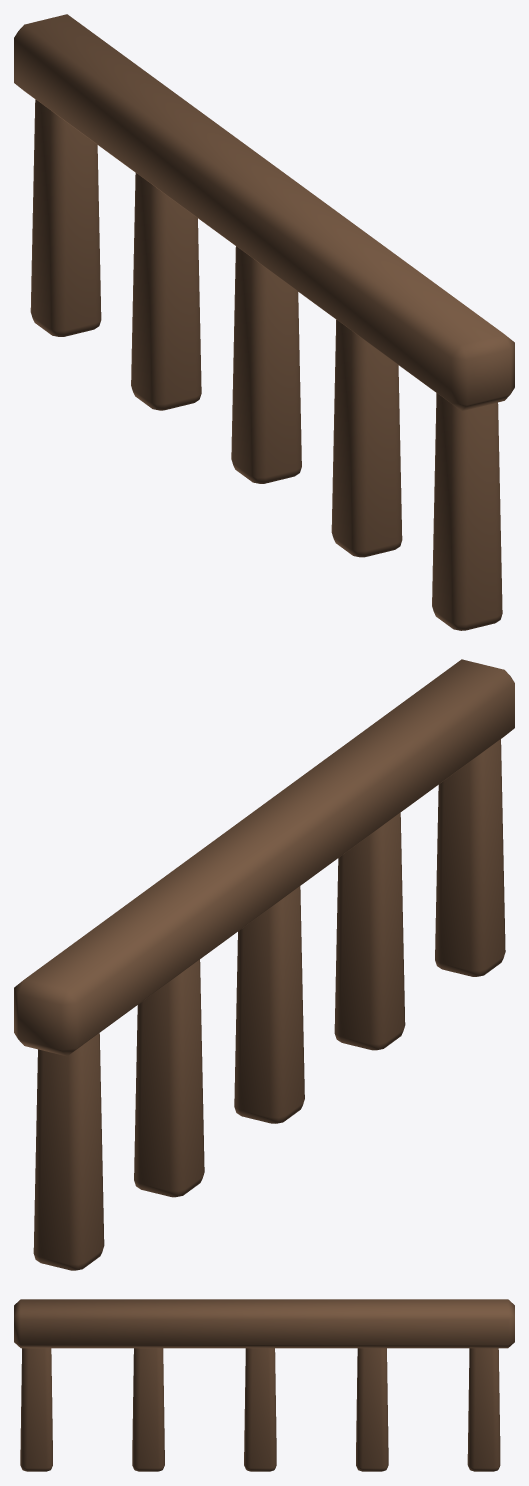
Rendered from MOD_Railing_Medium.fbx.
3 views of the same model, one above another, from view 1: azimuth 30°, elevation 25°; view 2: azimuth 150°, elevation 25°; view 3: azimuth 270°, elevation 25° (orthographic). The views are drawn at different scales.
Visible parts, largest first — view 1: MOD_Railing2; view 2: MOD_Railing2; view 3: MOD_Railing2.
Part boxes in pixels (<box>): MOD_Railing2: <box>14,14,514,630</box>; MOD_Railing2: <box>14,659,514,1270</box>; MOD_Railing2: <box>14,1299,514,1471</box>.
Bounding box in the file's own units: 12.31 × 53.88 × 151.
